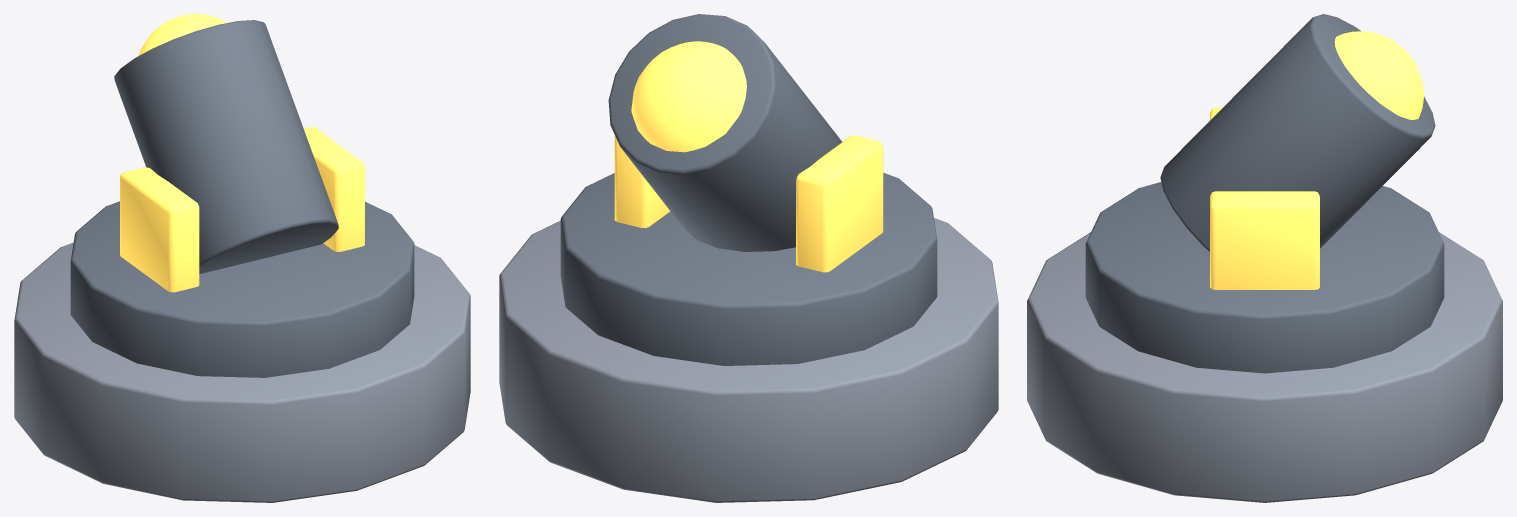
File: bldg_flame_mortar.glb
3 renders of one model, left to right at view 1: azimuth 30°, elevation 25°; view 2: azimuth 150°, elevation 25°; view 3: azimuth 270°, elevation 25°, orthographic. The views are drawn at different scales.
Visible parts, largest first — view 1: StaticBody, Anim_Turret; view 2: StaticBody, Anim_Turret; view 3: StaticBody, Anim_Turret.
Part boxes in pixels (x1,y1,x2,y2): StaticBody: [14, 201, 470, 502]; Anim_Turret: [114, 14, 364, 292]; StaticBody: [499, 173, 998, 502]; Anim_Turret: [608, 14, 883, 272]; StaticBody: [1027, 182, 1502, 502]; Anim_Turret: [1160, 14, 1435, 289].
Size of the model in its own units: 2.6 by 2.28 by 2.6.
